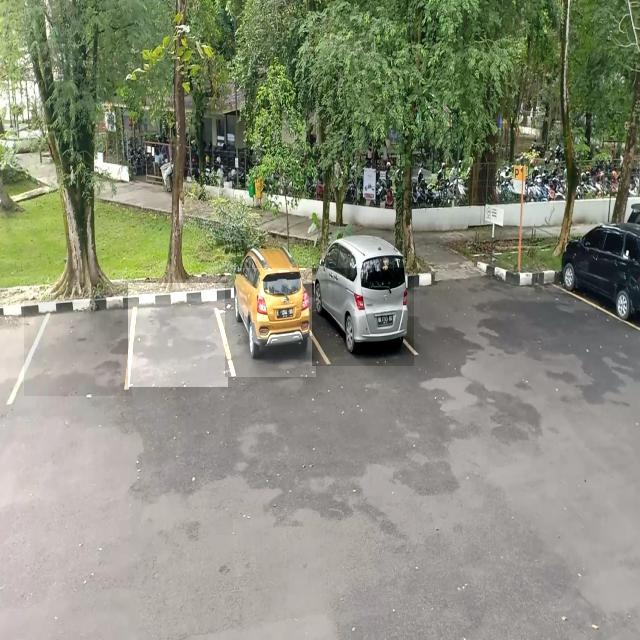empty: (128, 283, 228, 387), (24, 301, 132, 396)
occupied: (312, 268, 414, 366), (225, 268, 316, 377)
